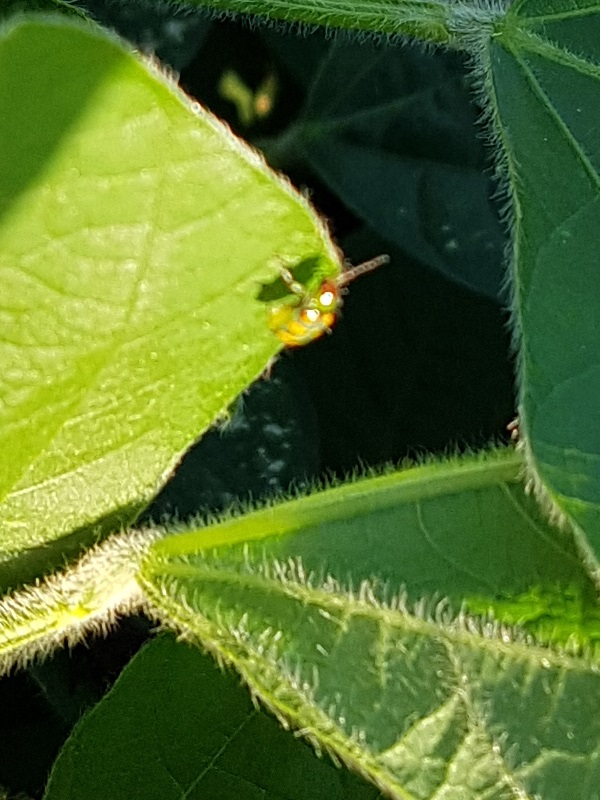Diabrotica_speciosa: (239, 230, 403, 373)
